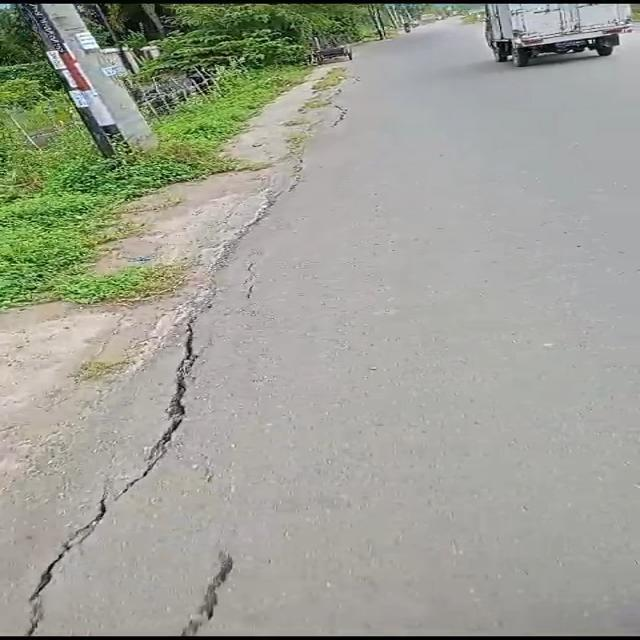Memanjang: (0, 302, 216, 640)
